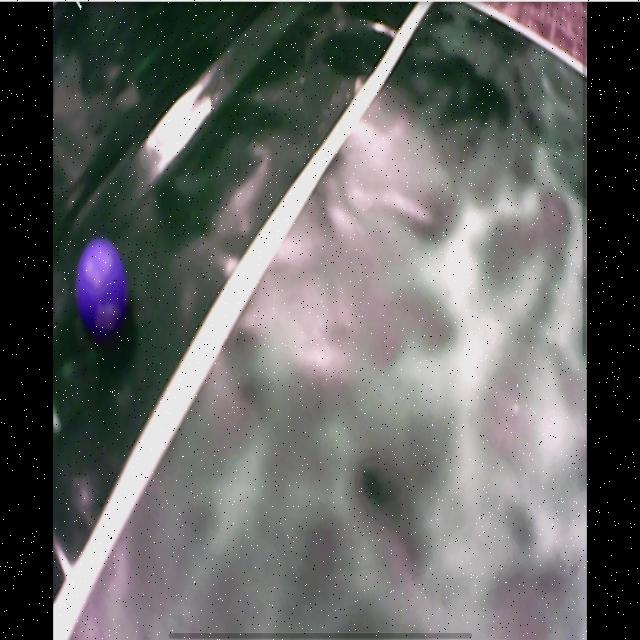ball: (76, 239, 127, 330)
